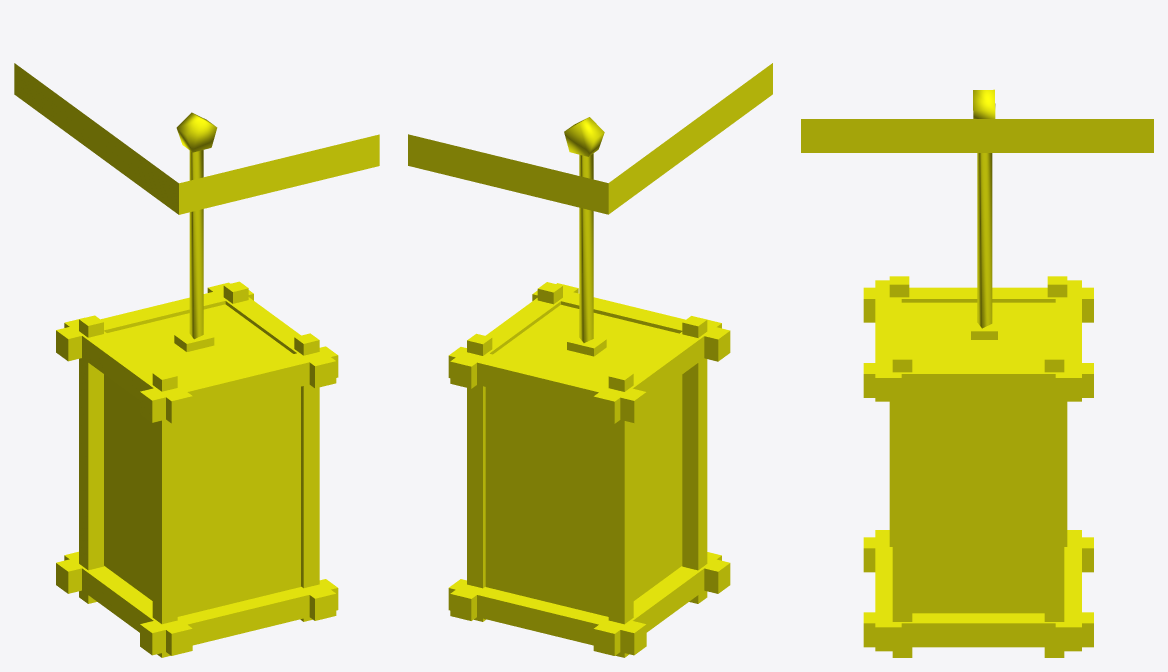
File: up_lantern.glb
The picture shows the model from 3 angles, left to right: view 1: azimuth 30°, elevation 25°; view 2: azimuth 150°, elevation 25°; view 3: azimuth 270°, elevation 25°; orthographic projection. The views are drawn at different scales.
Visible parts, largest first — view 1: up_lantern; view 2: up_lantern; view 3: up_lantern.
Boxes of the visible parts, left/top/right/bottom form: up_lantern: left=14, top=63, right=379, bottom=657; up_lantern: left=408, top=63, right=772, bottom=657; up_lantern: left=801, top=89, right=1153, bottom=657.
Bounding box in the file's own units: 0.3268 × 0.7952 × 0.4642.
1 material, 1 textured.
